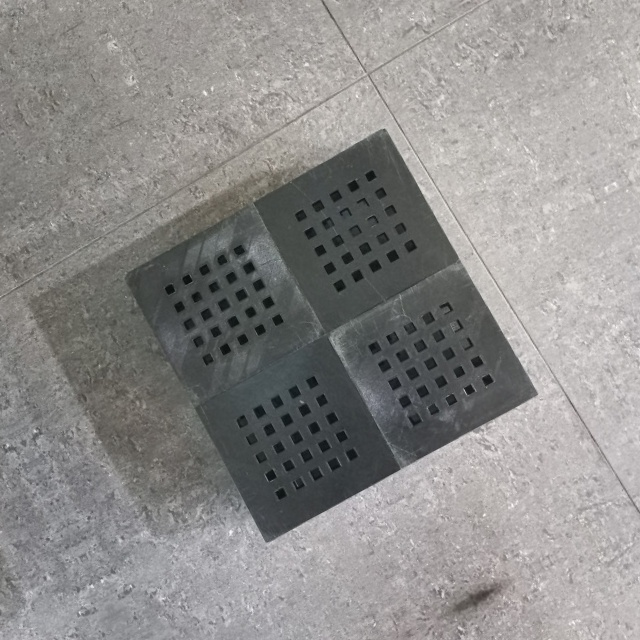pallet: (116, 116, 545, 548)
